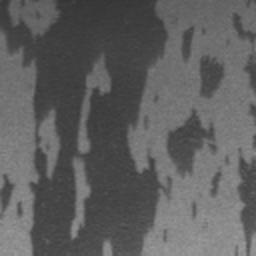Red iron sheet: (0, 0, 256, 256), (230, 12, 256, 116), (198, 56, 225, 100), (182, 24, 207, 63), (189, 202, 197, 219), (161, 227, 168, 243), (244, 0, 252, 8)
